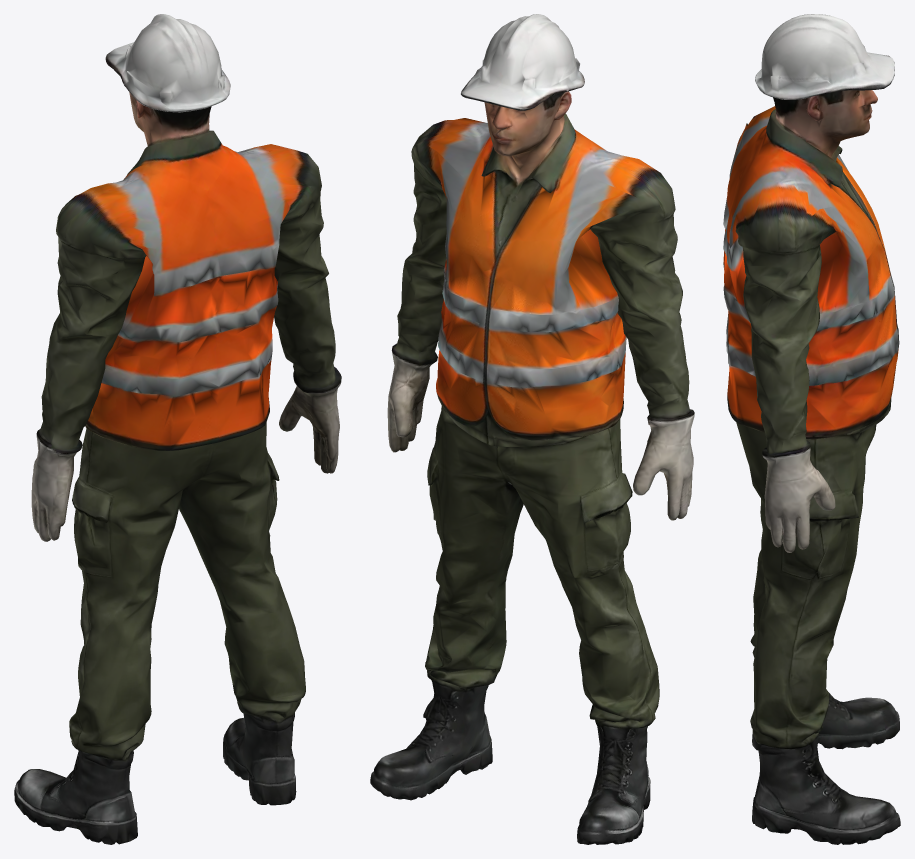
The model's file is executor_lod0.glb.
3 renders of one model, left to right at view 1: azimuth 30°, elevation 25°; view 2: azimuth 150°, elevation 25°; view 3: azimuth 270°, elevation 25°, orthographic.
Visible parts, largest first — view 1: tripo_node_4cba9c31-ffc9-49e5-a990-3eddbf9991f8; view 2: tripo_node_4cba9c31-ffc9-49e5-a990-3eddbf9991f8; view 3: tripo_node_4cba9c31-ffc9-49e5-a990-3eddbf9991f8.
Part boxes in pixels (x1=…): tripo_node_4cba9c31-ffc9-49e5-a990-3eddbf9991f8: x1=14, y1=14, x2=341, y2=844; tripo_node_4cba9c31-ffc9-49e5-a990-3eddbf9991f8: x1=370, y1=14, x2=694, y2=844; tripo_node_4cba9c31-ffc9-49e5-a990-3eddbf9991f8: x1=723, y1=14, x2=900, y2=844.
Size of the model in its own units: 0.6982 by 1.75 by 0.3649.
Materials: 1 (1 with a texture image).
